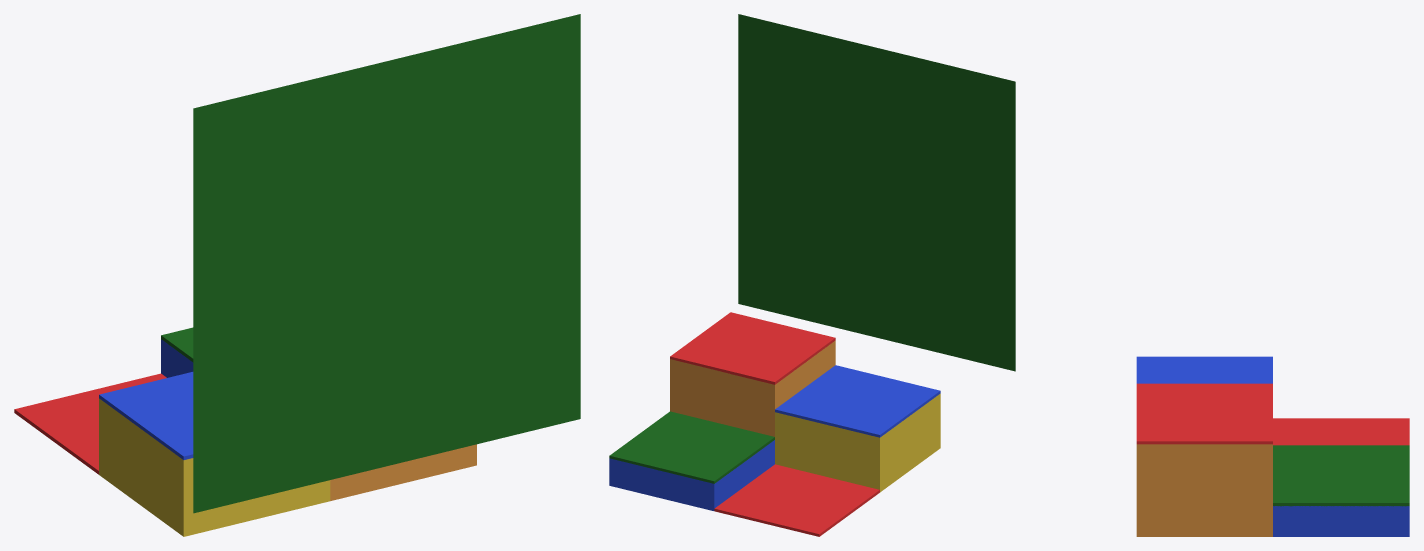
File: rush start file.glb
3 views of the same model, side by side, from view 1: azimuth 30°, elevation 25°; view 2: azimuth 150°, elevation 25°; view 3: azimuth 270°, elevation 25° (orthographic). The views are drawn at different scales.
Parts seen in each view (by area): view 1: Plane.002, Cube.002, Cube.008, Cube.003, Cube.006, Cube.001, Cube.005; view 2: Plane.002, Cube.002, Cube.006, Cube.003, Cube.008, Cube.009, Cube.005, Cube.001; view 3: Cube.006, Cube.009, Cube.005, Cube.001, Cube.003, Cube.008.
Part boxes in pixels (x1,y1,x2,y2): Plane.002: (193, 14, 580, 513); Cube.002: (99, 398, 330, 536); Cube.008: (99, 372, 193, 459); Cube.003: (14, 373, 166, 474); Cube.006: (330, 444, 476, 500); Cube.001: (161, 339, 193, 377); Cube.005: (161, 327, 193, 362); Plane.002: (738, 14, 1015, 371); Cube.002: (775, 393, 940, 492); Cube.006: (670, 340, 835, 436); Cube.003: (714, 464, 879, 536); Cube.008: (775, 365, 940, 437); Cube.009: (670, 312, 835, 384); Cube.005: (609, 411, 774, 483); Cube.001: (609, 440, 774, 510); Cube.006: (1136, 444, 1272, 536); Cube.009: (1136, 383, 1272, 444); Cube.005: (1273, 445, 1409, 506); Cube.001: (1273, 506, 1409, 536); Cube.003: (1273, 418, 1409, 445); Cube.008: (1136, 356, 1272, 383).
Size of the model in its own units: 5.28 by 6.28 by 5.35.
